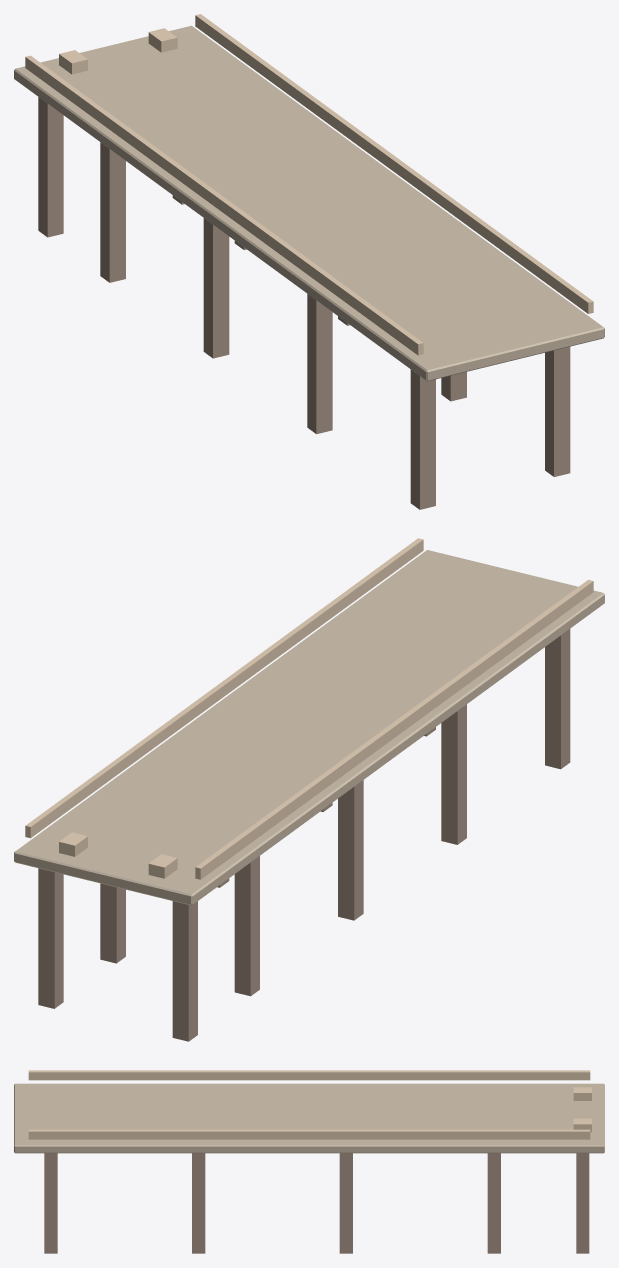
The model's file is pier_01.glb.
3 views of the same model, one above another, from view 1: azimuth 30°, elevation 25°; view 2: azimuth 150°, elevation 25°; view 3: azimuth 270°, elevation 25° (orthographic). The views are drawn at different scales.
Visible parts, largest first — view 1: pier_01; view 2: pier_01; view 3: pier_01.
Boxes of the visible parts, bbox=[...] form: pier_01: bbox=[14, 14, 604, 509]; pier_01: bbox=[14, 538, 604, 1041]; pier_01: bbox=[14, 1070, 604, 1253].
Size of the model in its own units: 2 by 1.88 by 8.
